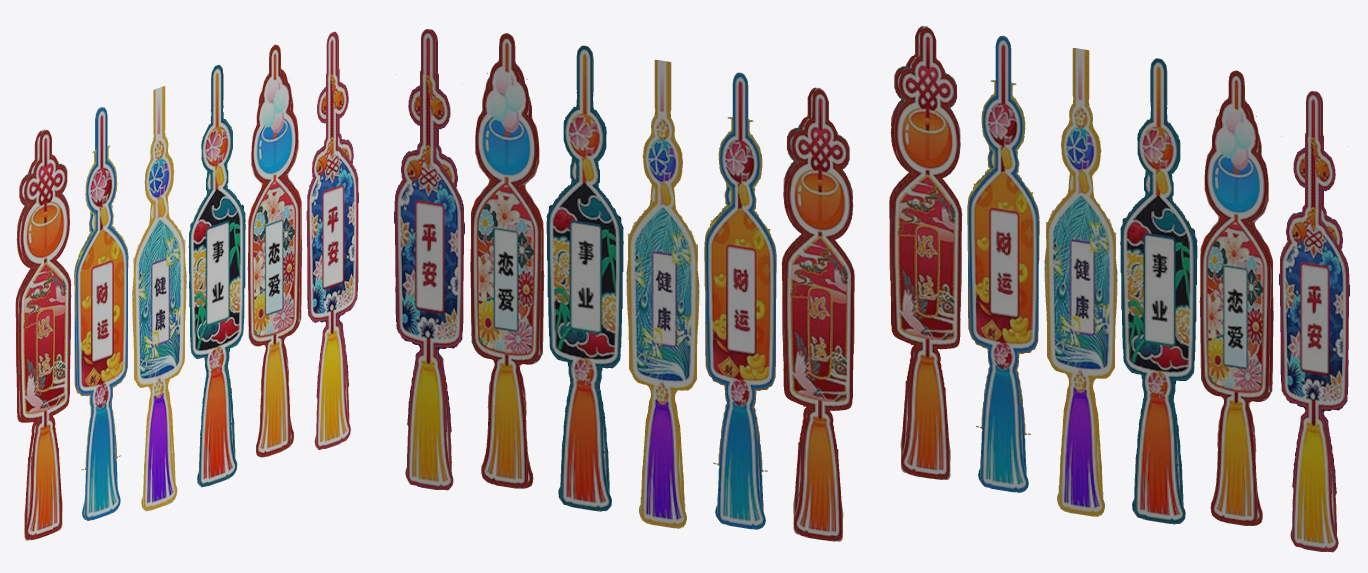
File: fudai.fbx
The picture shows the model from 3 angles, left to right: view 1: azimuth 30°, elevation 25°; view 2: azimuth 150°, elevation 25°; view 3: azimuth 330°, elevation 25°; orthographic projection. The views are drawn at different scales.
Parts seen in each view (by area): view 1: polySurface1, polySurface4, polySurface2, polySurface5, polySurface3, polySurface6; view 2: polySurface1, polySurface4, polySurface2, polySurface5, polySurface3, polySurface6; view 3: polySurface1, polySurface4, polySurface2, polySurface5, polySurface3, polySurface6.
Boxes of the visible parts, x1,y1,x2,y2 form: polySurface1: [15, 129, 71, 540]; polySurface4: [247, 44, 302, 457]; polySurface2: [188, 65, 245, 487]; polySurface5: [74, 107, 128, 520]; polySurface3: [306, 31, 358, 449]; polySurface6: [132, 86, 186, 511]; polySurface1: [781, 87, 854, 541]; polySurface4: [470, 33, 544, 488]; polySurface2: [546, 45, 623, 511]; polySurface5: [704, 72, 776, 529]; polySurface3: [394, 29, 464, 490]; polySurface6: [626, 59, 699, 528]; polySurface1: [889, 26, 962, 479]; polySurface4: [1199, 70, 1273, 525]; polySurface2: [1120, 58, 1197, 524]; polySurface5: [967, 35, 1039, 492]; polySurface3: [1279, 91, 1349, 552]; polySurface6: [1044, 48, 1117, 516].
Bounding box in the file's own units: 128 × 135 × 21.55.
1 material, 1 textured.
